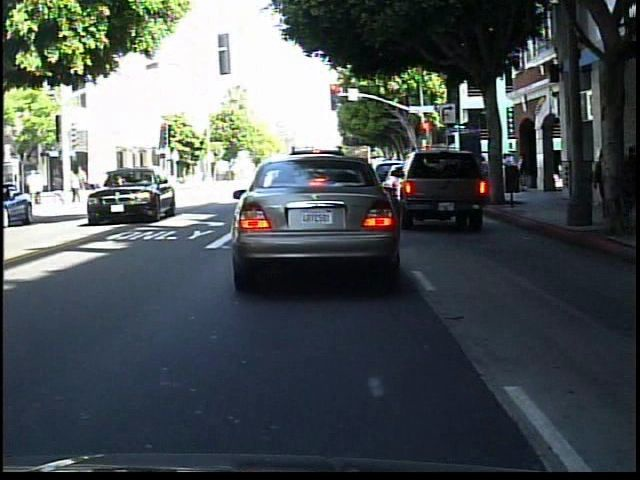person: (617, 141, 640, 219), (598, 140, 620, 215), (74, 162, 91, 196), (72, 167, 86, 206), (53, 170, 66, 206)
